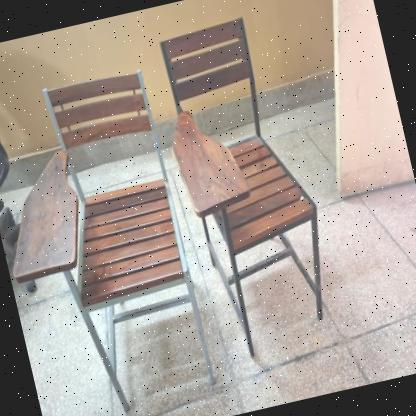chair: (0, 56, 228, 416), (142, 1, 356, 374)
